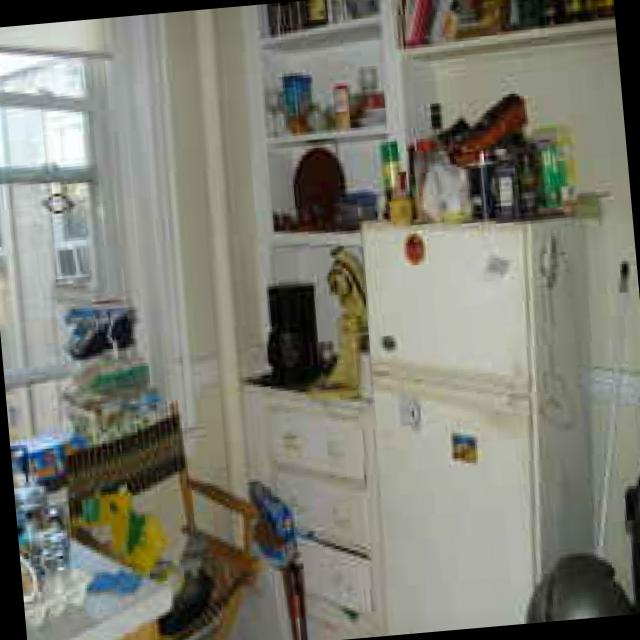2001: (0, 47, 132, 456)
chair part: (67, 391, 256, 640)
coffe marker: (264, 279, 319, 384)
cupboard crop: (248, 0, 609, 378), (257, 342, 375, 640)
flask crop: (494, 147, 523, 220), (557, 129, 579, 203)
food supplies: (327, 242, 365, 392)
fridge: (363, 194, 599, 630)
table lamp: (20, 493, 172, 640)
tin box: (467, 147, 499, 222)
toy crio: (82, 486, 173, 565)
tray occluded: (295, 144, 345, 229)
wall clock: (213, 0, 640, 640), (0, 8, 260, 640)
